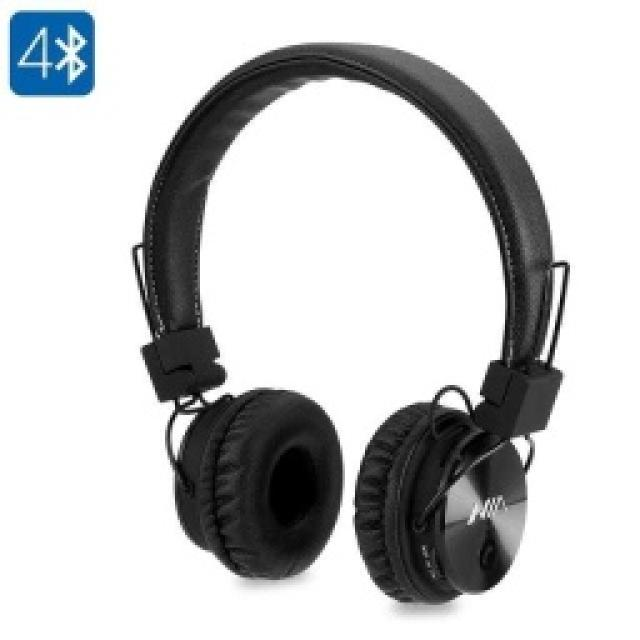headphones: (130, 38, 570, 602)
